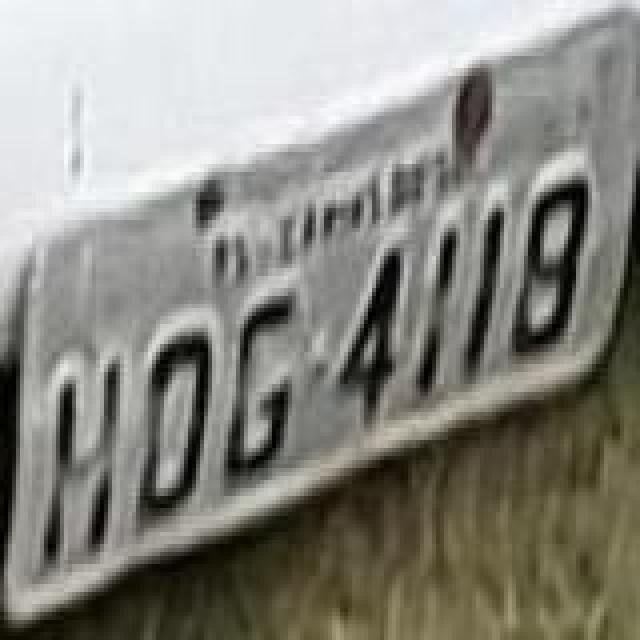1: (414, 222, 466, 402), (462, 198, 514, 378)
4: (334, 240, 402, 440)
8: (510, 172, 594, 364)
G: (222, 288, 298, 480)
H: (36, 354, 124, 574)
O: (136, 324, 216, 524)
